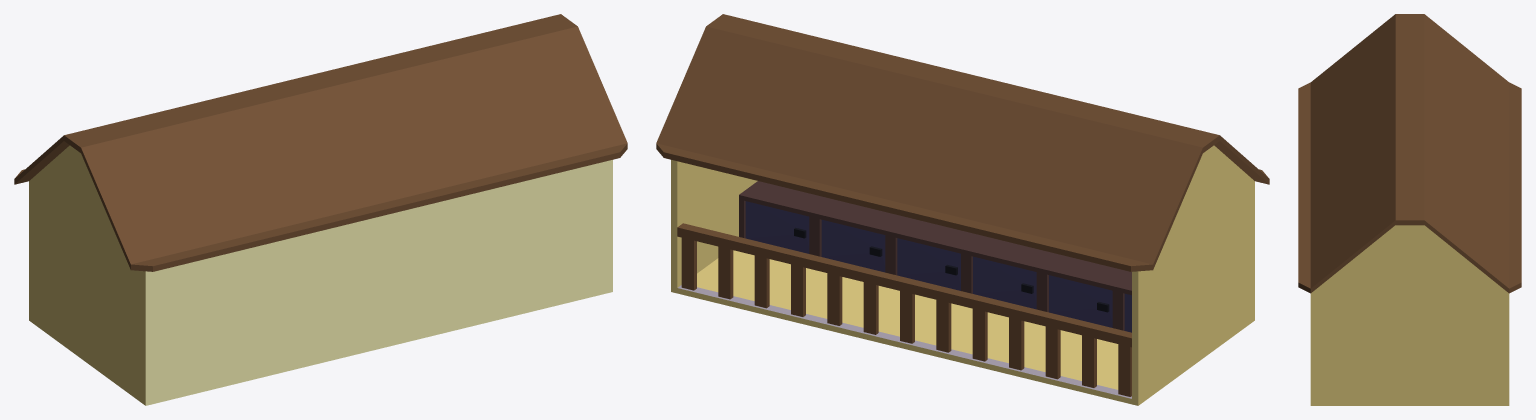
File: tienda.fbx
3 renders of one model, left to right at view 1: azimuth 30°, elevation 25°; view 2: azimuth 150°, elevation 25°; view 3: azimuth 270°, elevation 25°, orthographic. The views are drawn at different scales.
Visible parts, largest first — view 1: Cube; view 2: Cube; view 3: Cube.
Boxes of the visible parts, x1,y1,x2,y2 form: Cube: (14,14,627,405); Cube: (656,14,1269,405); Cube: (1298,14,1521,405).
Bounding box in the file's own units: 2019 × 876 × 924.
